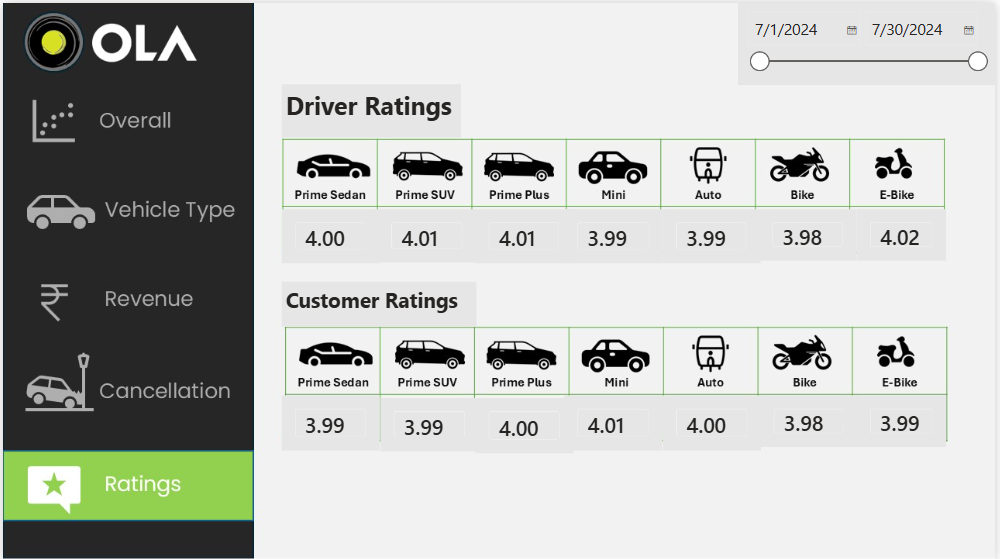

Layout of this report page (visuals, bound fields, positions):
{"tool":"powerbi","page":{"name":"Ratings","canvas":[1280,720],"ordinal":4},"visuals":[{"type":"actionButton","box":[0,210.2,326.5,112.2],"z":0},{"type":"actionButton","box":[0,322.4,326.5,110.2],"z":1000},{"type":"actionButton","box":[0,432.7,326.5,126.5],"z":2000},{"type":"actionButton","box":[0,577.6,326.5,79.6],"z":3000},{"type":"actionButton","box":[0,104.1,326.5,106.1],"z":4000},{"type":"cardVisual","fields":{"Data":["Avg(July.Driver_Ratings)"]},"box":[359.3,266.1,125.4,69.5],"z":5000},{"type":"cardVisual","fields":{"Data":["Avg(July.Customer_Rating)"]},"box":[486.7,508.9,126.7,68.9],"z":6000},{"type":"cardVisual","fields":{"Data":["Avg(July.Driver_Ratings)"]},"box":[610.2,266.1,125.4,69.5],"z":7000},{"type":"cardVisual","fields":{"Data":["Avg(July.Driver_Ratings)"]},"box":[723.7,266.1,127.1,69.5],"z":8000},{"type":"cardVisual","fields":{"Data":["Avg(July.Driver_Ratings)"]},"box":[850.8,266.1,125.4,69.5],"z":9000},{"type":"cardVisual","fields":{"Data":["Avg(July.Driver_Ratings)"]},"box":[976.3,266.1,125.4,66.1],"z":10000},{"type":"cardVisual","fields":{"Data":["Avg(July.Driver_Ratings)"]},"box":[1101.7,266.1,115.3,66.1],"z":11000},{"type":"textbox","box":[360,104.4,231.1,68.9],"z":11001},{"type":"textbox","box":[360,360,251.1,57.8],"z":11002},{"type":"cardVisual","fields":{"Data":["Avg(July.Customer_Rating)"]},"box":[360,506.7,126.7,71.1],"z":11003},{"type":"cardVisual","fields":{"Data":["Avg(July.Driver_Ratings)"]},"box":[484.4,266.7,126.7,68.9],"z":11004},{"type":"cardVisual","fields":{"Data":["Avg(July.Customer_Rating)"]},"box":[608.9,508.9,126.7,71.1],"z":11005},{"type":"cardVisual","fields":{"Data":["Avg(July.Customer_Rating)"]},"box":[724.4,506.7,126.7,71.1],"z":11006},{"type":"cardVisual","fields":{"Data":["Avg(July.Customer_Rating)"]},"box":[851.1,506.7,126.7,71.1],"z":11007},{"type":"cardVisual","fields":{"Data":["Avg(July.Customer_Rating)"]},"box":[977.8,506.7,124.4,66.7],"z":11008},{"type":"cardVisual","fields":{"Data":["Avg(July.Customer_Rating)"]},"box":[1102.2,506.7,115.6,66.7],"z":11009},{"type":"slicer","title":"DATE","fields":{"Values":["July.Date"]},"box":[948.9,0,331.1,104.4],"z":11010}]}

Visuals, with their boxes on the page's 1280x720 design canvas (x1, y1, x2, y2). These are canvas units, not pixel positions in the 1000x559 screenshot, which may show the page scaled, cropped or inside an application window:
actionButton: {"left": 0, "top": 210, "right": 326, "bottom": 322}
actionButton: {"left": 0, "top": 322, "right": 326, "bottom": 433}
actionButton: {"left": 0, "top": 433, "right": 326, "bottom": 559}
actionButton: {"left": 0, "top": 578, "right": 326, "bottom": 657}
actionButton: {"left": 0, "top": 104, "right": 326, "bottom": 210}
cardVisual - Avg(July.Driver_Ratings): {"left": 359, "top": 266, "right": 485, "bottom": 336}
cardVisual - Avg(July.Customer_Rating): {"left": 487, "top": 509, "right": 613, "bottom": 578}
cardVisual - Avg(July.Driver_Ratings): {"left": 610, "top": 266, "right": 736, "bottom": 336}
cardVisual - Avg(July.Driver_Ratings): {"left": 724, "top": 266, "right": 851, "bottom": 336}
cardVisual - Avg(July.Driver_Ratings): {"left": 851, "top": 266, "right": 976, "bottom": 336}
cardVisual - Avg(July.Driver_Ratings): {"left": 976, "top": 266, "right": 1102, "bottom": 332}
cardVisual - Avg(July.Driver_Ratings): {"left": 1102, "top": 266, "right": 1217, "bottom": 332}
textbox: {"left": 360, "top": 104, "right": 591, "bottom": 173}
textbox: {"left": 360, "top": 360, "right": 611, "bottom": 418}
cardVisual - Avg(July.Customer_Rating): {"left": 360, "top": 507, "right": 487, "bottom": 578}
cardVisual - Avg(July.Driver_Ratings): {"left": 484, "top": 267, "right": 611, "bottom": 336}
cardVisual - Avg(July.Customer_Rating): {"left": 609, "top": 509, "right": 736, "bottom": 580}
cardVisual - Avg(July.Customer_Rating): {"left": 724, "top": 507, "right": 851, "bottom": 578}
cardVisual - Avg(July.Customer_Rating): {"left": 851, "top": 507, "right": 978, "bottom": 578}
cardVisual - Avg(July.Customer_Rating): {"left": 978, "top": 507, "right": 1102, "bottom": 573}
cardVisual - Avg(July.Customer_Rating): {"left": 1102, "top": 507, "right": 1218, "bottom": 573}
"DATE" slicer: {"left": 949, "top": 0, "right": 1280, "bottom": 104}
